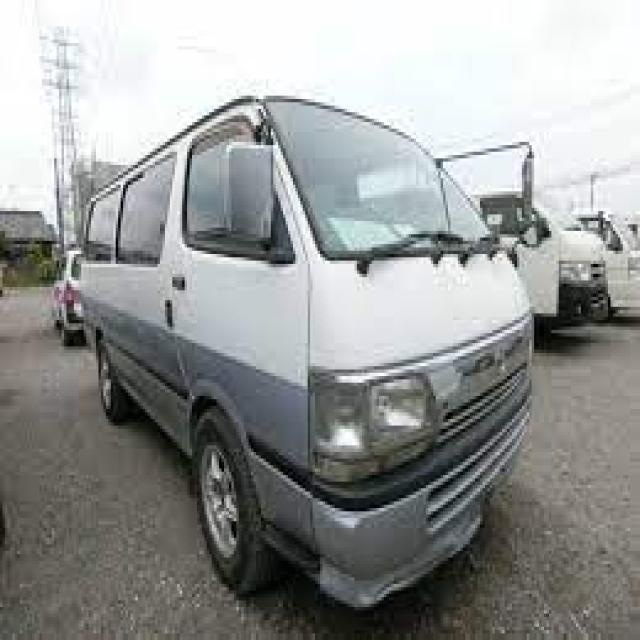Van: (52, 86, 566, 623)
